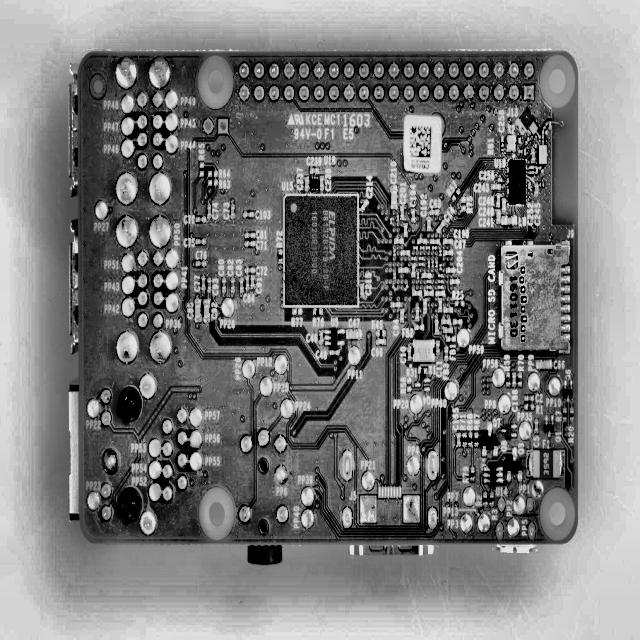PCB: (70, 54, 580, 565)
